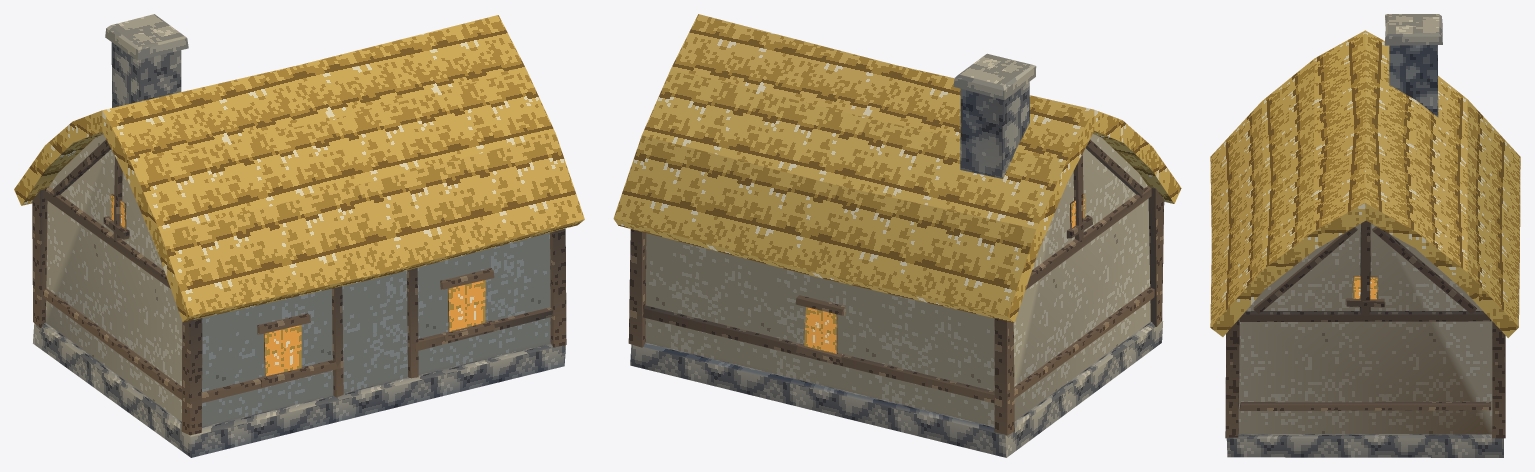
The model's file is vlg.cottage__doorway.glb.
3 views of the same model, side by side, from view 1: azimuth 30°, elevation 25°; view 2: azimuth 150°, elevation 25°; view 3: azimuth 270°, elevation 25° (orthographic). The views are drawn at different scales.
Visible parts, largest first — view 1: kit_roof, kit_walls, kit_stonework, kit_frame, kit_fittings; view 2: kit_roof, kit_walls, kit_stonework, kit_frame, kit_fittings; view 3: kit_roof, kit_walls, kit_frame, kit_stonework, kit_fittings.
Boxes of the visible parts, bbox=[...] form: kit_roof: bbox=[14, 15, 584, 322]; kit_walls: bbox=[46, 134, 550, 426]; kit_stonework: bbox=[33, 14, 565, 457]; kit_frame: bbox=[32, 139, 566, 435]; kit_fittings: bbox=[103, 193, 495, 387]; kit_roof: bbox=[613, 14, 1181, 322]; kit_walls: bbox=[645, 134, 1150, 426]; kit_stonework: bbox=[630, 53, 1163, 457]; kit_frame: bbox=[628, 139, 1164, 435]; kit_fittings: bbox=[795, 193, 1092, 363]; kit_roof: bbox=[1210, 30, 1520, 337]; kit_walls: bbox=[1238, 223, 1492, 434]; kit_frame: bbox=[1225, 220, 1505, 438]; kit_stonework: bbox=[1226, 14, 1503, 457]; kit_fittings: bbox=[1346, 276, 1384, 307].
Size of the model in its own units: 7.57 by 6.12 by 5.76.
6 materials, 6 textured.
